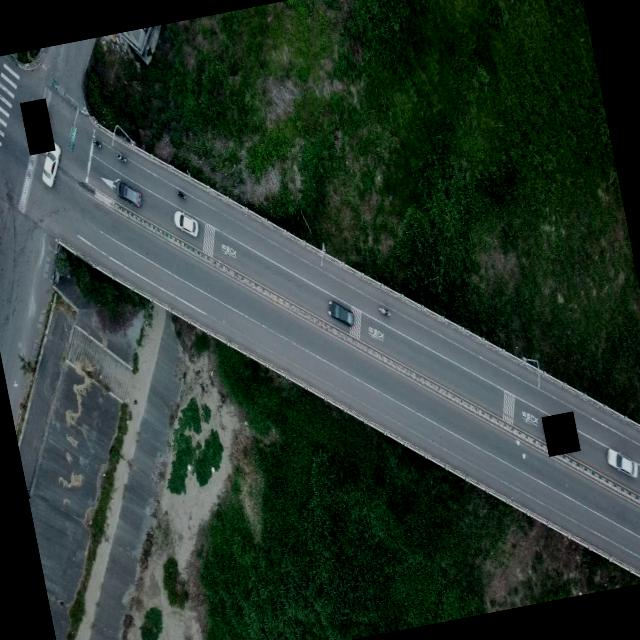bike: (372, 298, 394, 324), (116, 145, 132, 169), (172, 188, 194, 205), (89, 130, 103, 150)
car: (604, 444, 640, 482), (38, 149, 66, 189), (326, 295, 357, 331), (115, 176, 144, 212), (174, 206, 202, 242)
